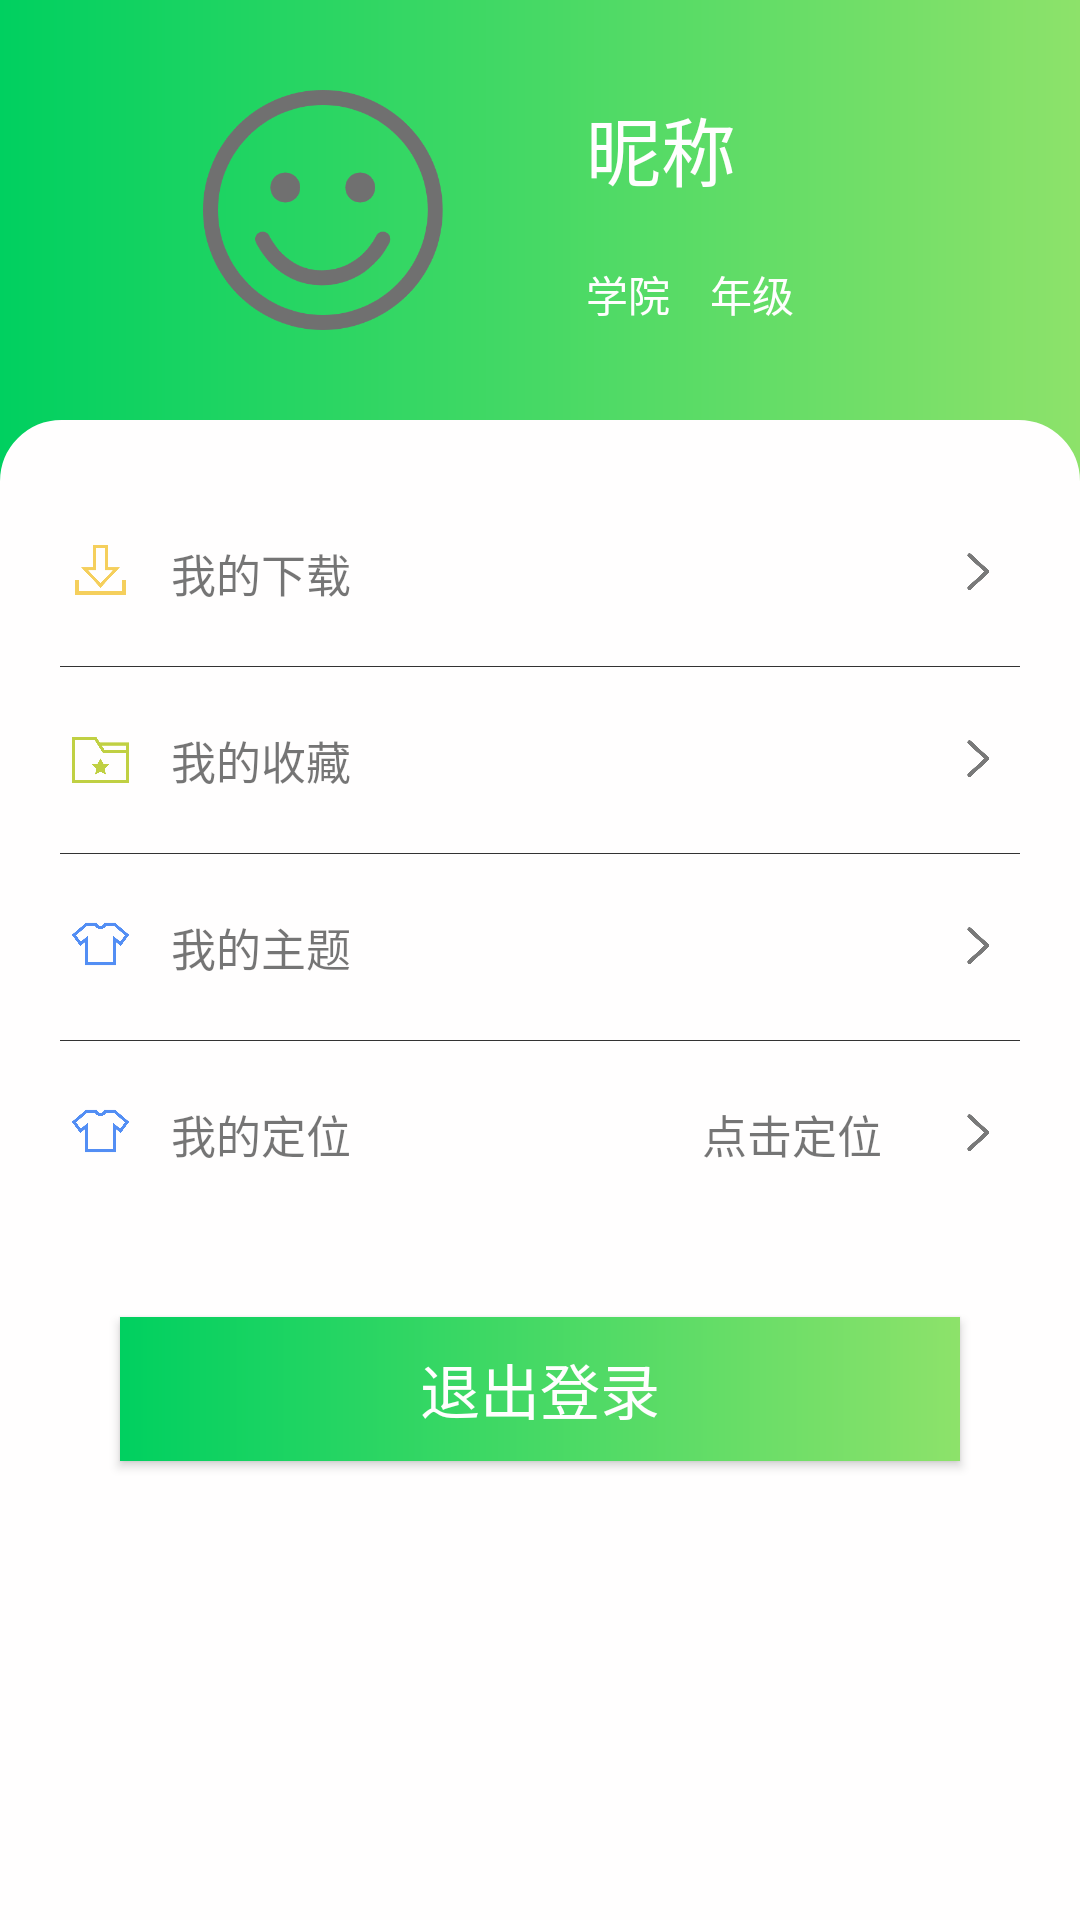

Where to tap for icons on this 1080×1920 app screen, as [x,y]:
collect: [100,760]
download: [100,570]
mystyle: [100,944], [100,1131]
right: [978,571], [978,758], [978,945], [978,1132]
